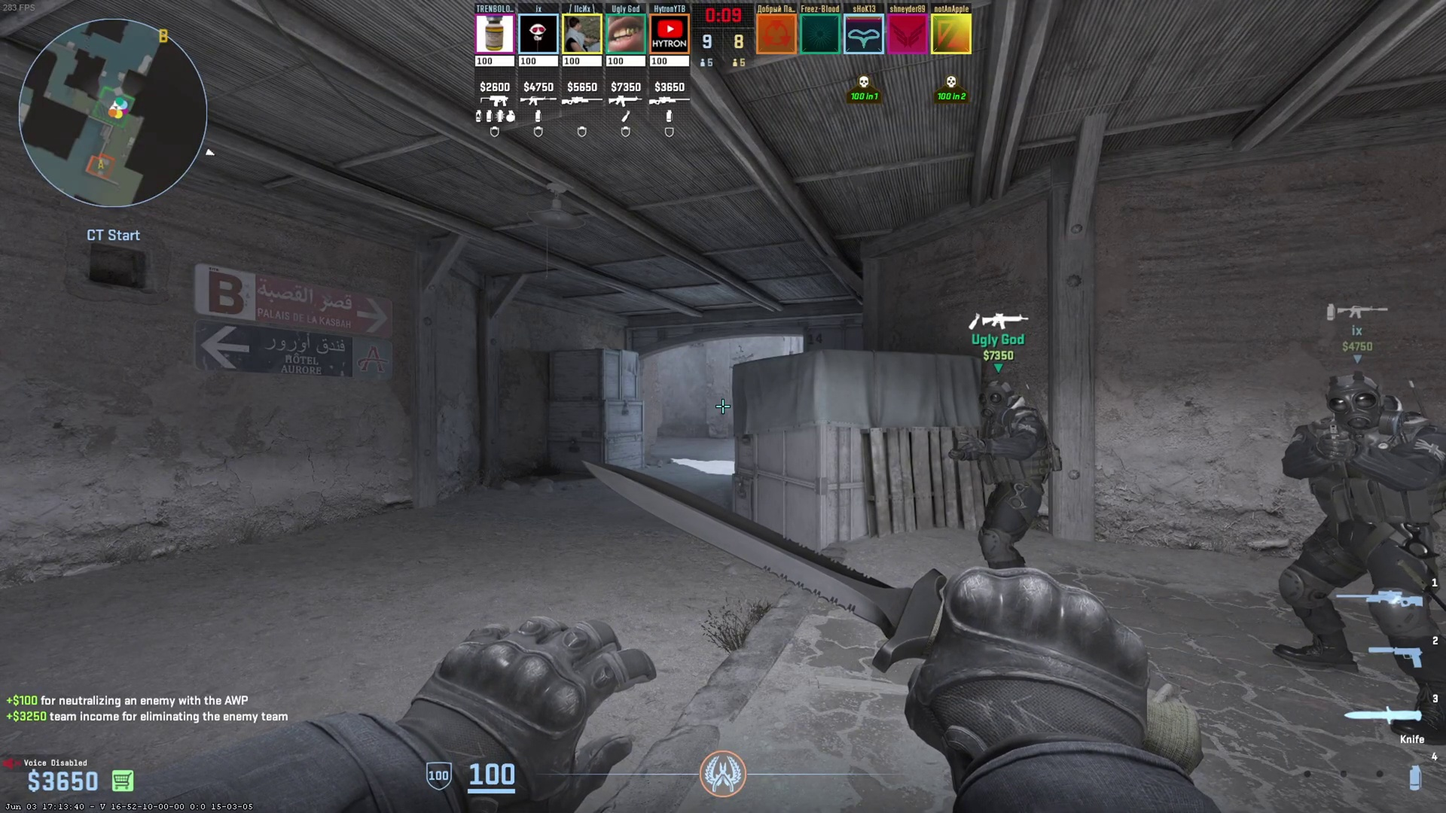CT: (1287, 375, 1445, 736), (974, 381, 1050, 568)
